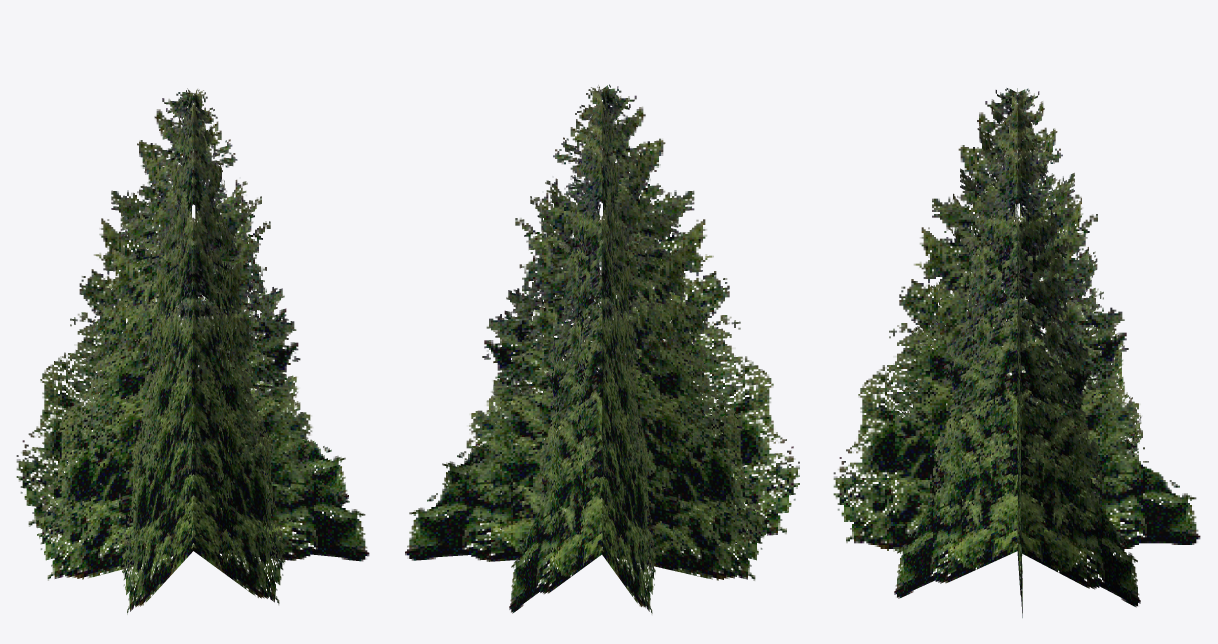
Rendered from tuja_test.glb.
The picture shows the model from 3 angles, left to right: view 1: azimuth 30°, elevation 25°; view 2: azimuth 150°, elevation 25°; view 3: azimuth 270°, elevation 25°; orthographic projection.
Visible parts, largest first — view 1: Plane.002; view 2: Plane.002; view 3: Plane.002.
Part boxes in pixels (<box>): Plane.002: <box>16,88,369,614</box>; Plane.002: <box>405,84,799,613</box>; Plane.002: <box>833,88,1200,617</box>.
Size of the model in its own units: 3.9 by 5.28 by 3.9.
Materials: 1 (1 with a texture image).
